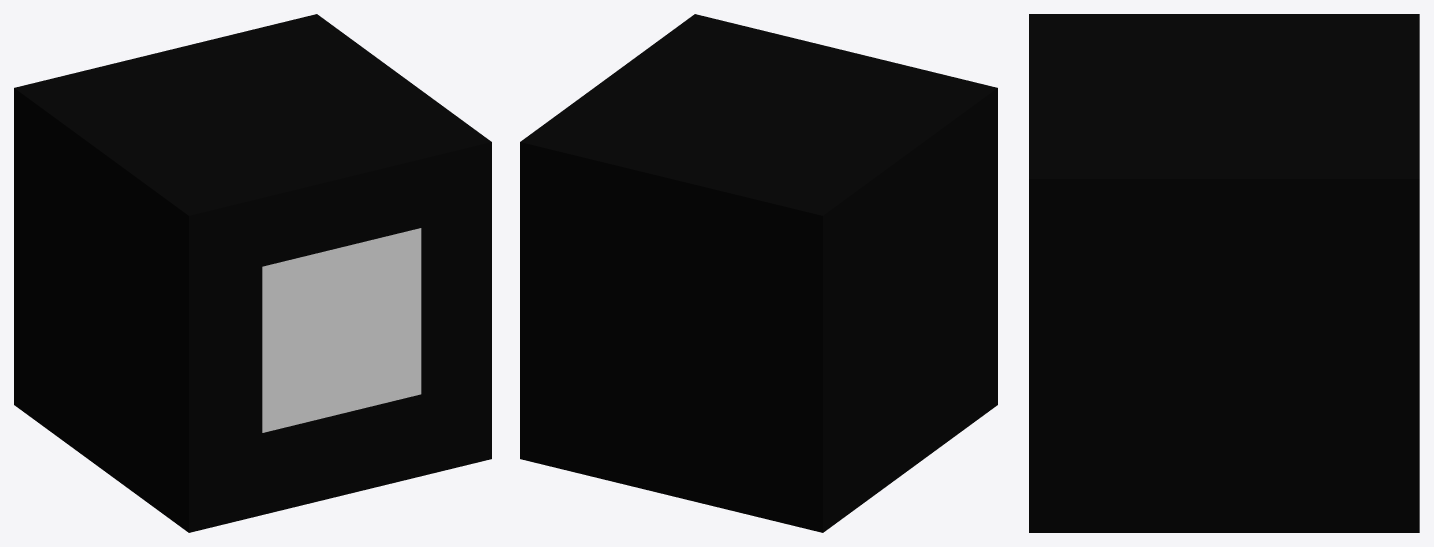
Rendered from plate-with-plane.glb.
The picture shows the model from 3 angles, left to right: view 1: azimuth 30°, elevation 25°; view 2: azimuth 150°, elevation 25°; view 3: azimuth 270°, elevation 25°; orthographic projection. The views are drawn at different scales.
Parts seen in each view (by area): view 1: clear-box, Plane; view 2: clear-box; view 3: clear-box.
Boxes of the visible parts, x1,y1,x2,y2 form: clear-box: (14,14,491,532); Plane: (262,228,421,432); clear-box: (520,14,997,532); clear-box: (1029,14,1419,532).
Size of the model in its own units: 0.762 by 0.762 by 0.7676.
Materials: 2 (1 with a texture image).
